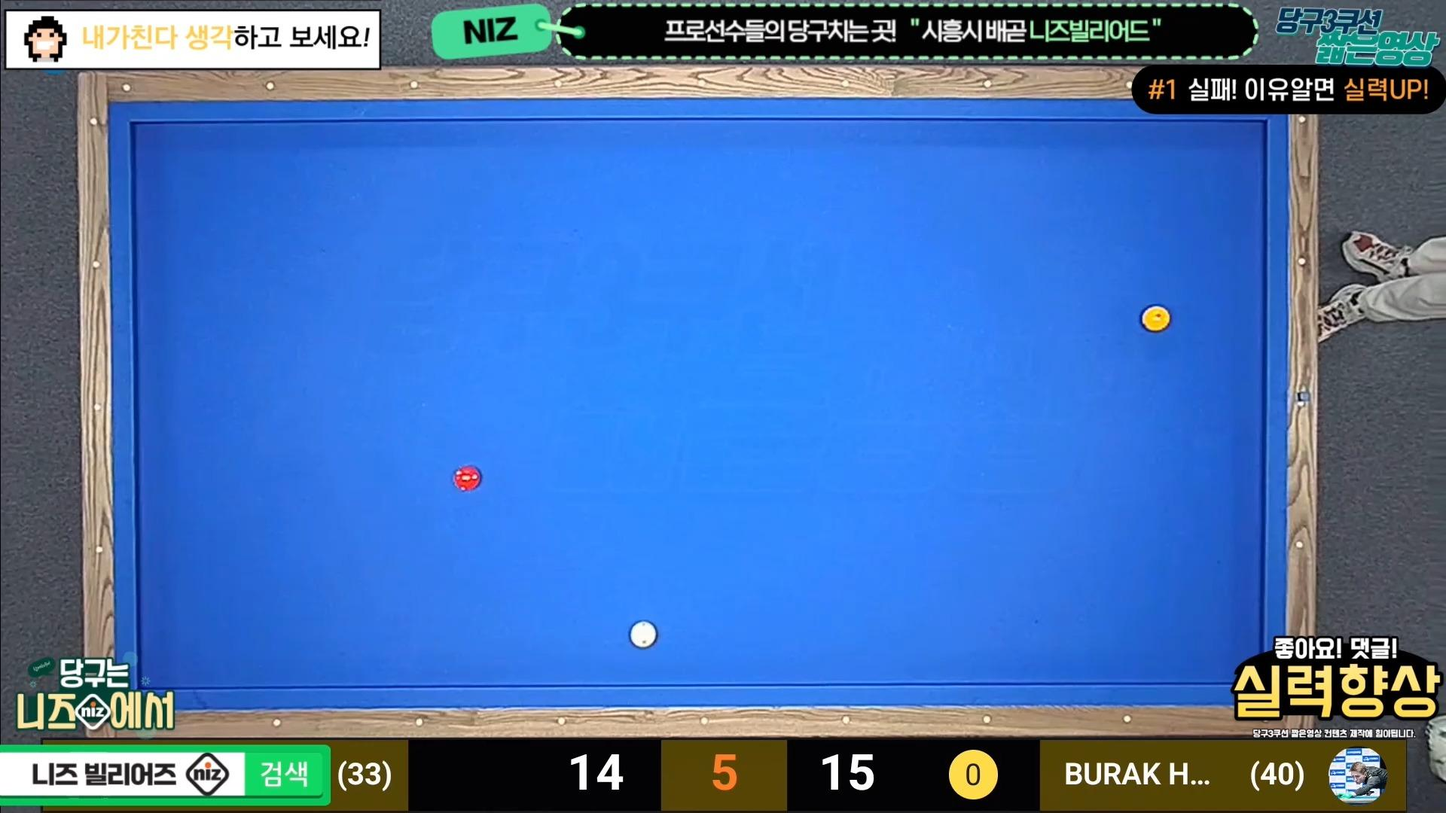Red: (453, 467, 487, 494)
White: (629, 621, 660, 649)
Yellow: (1138, 305, 1173, 333)
